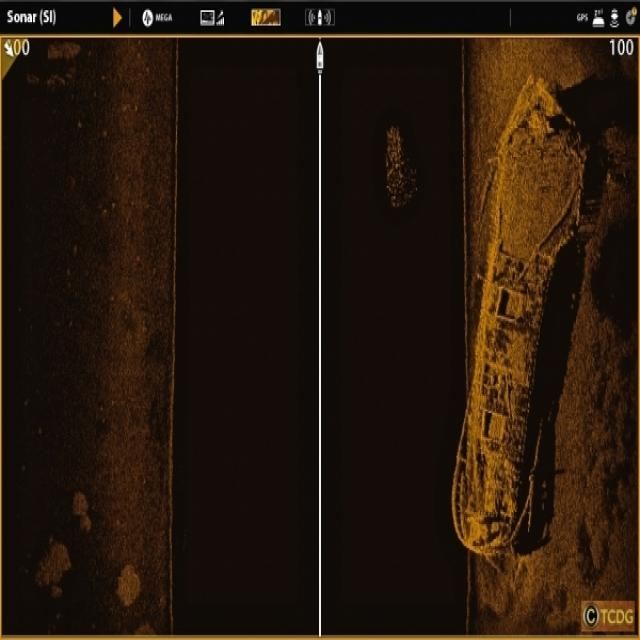ship: (456, 84, 580, 553)
